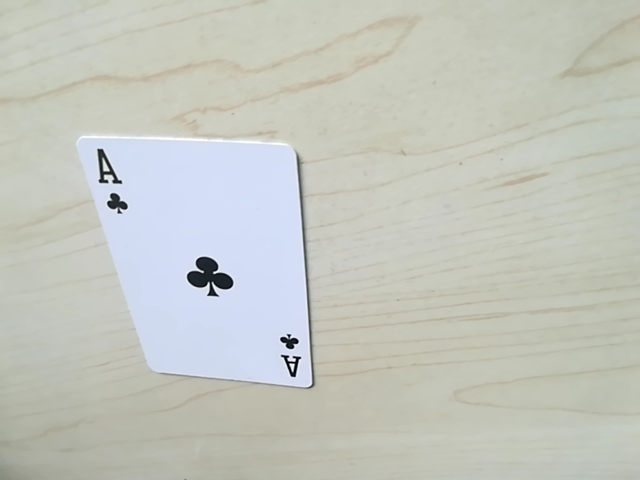mh a: (88, 149, 131, 218), (273, 327, 307, 385)
